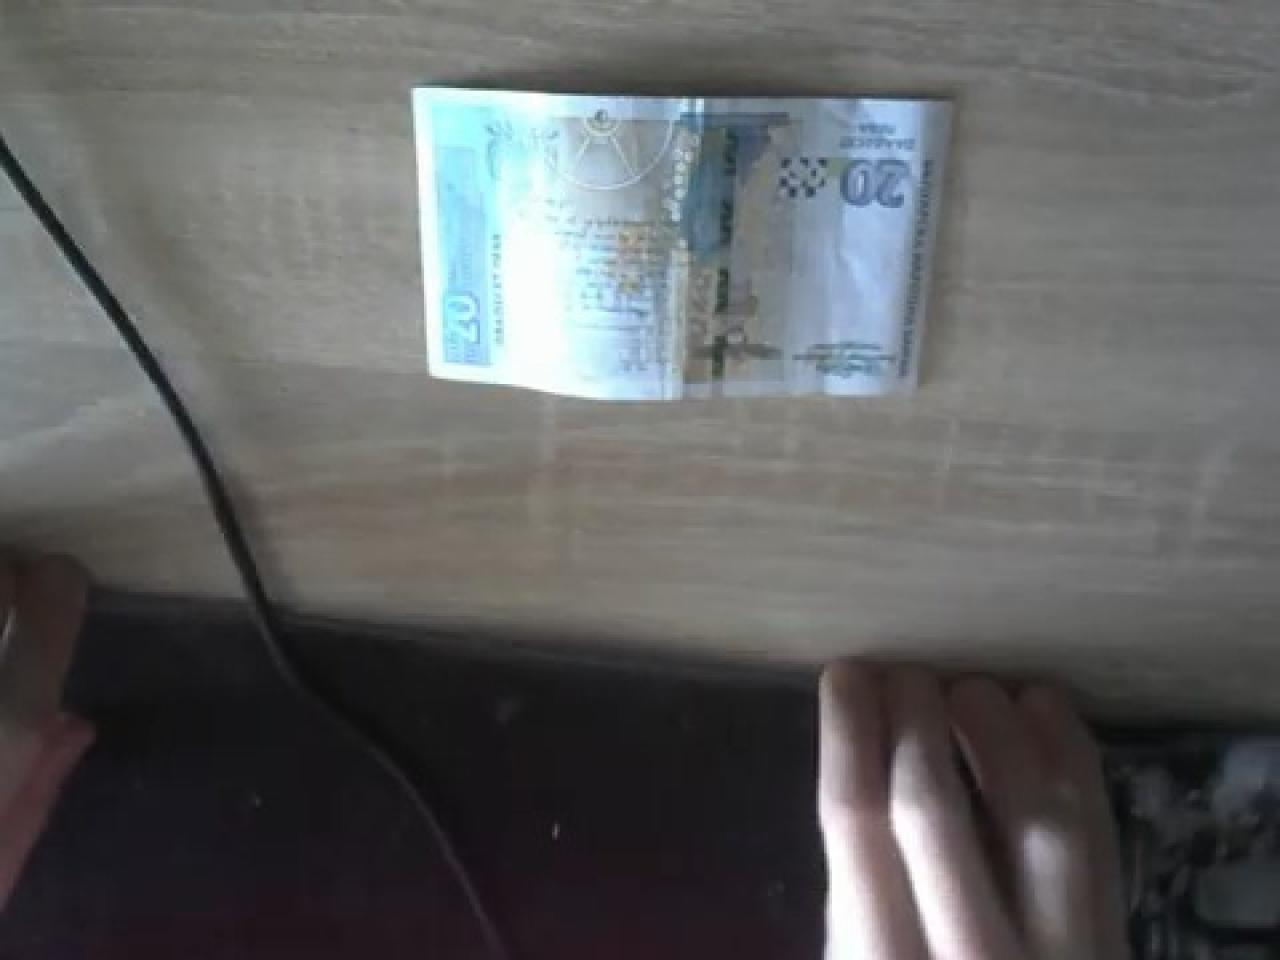20leva: (411, 86, 961, 405)
